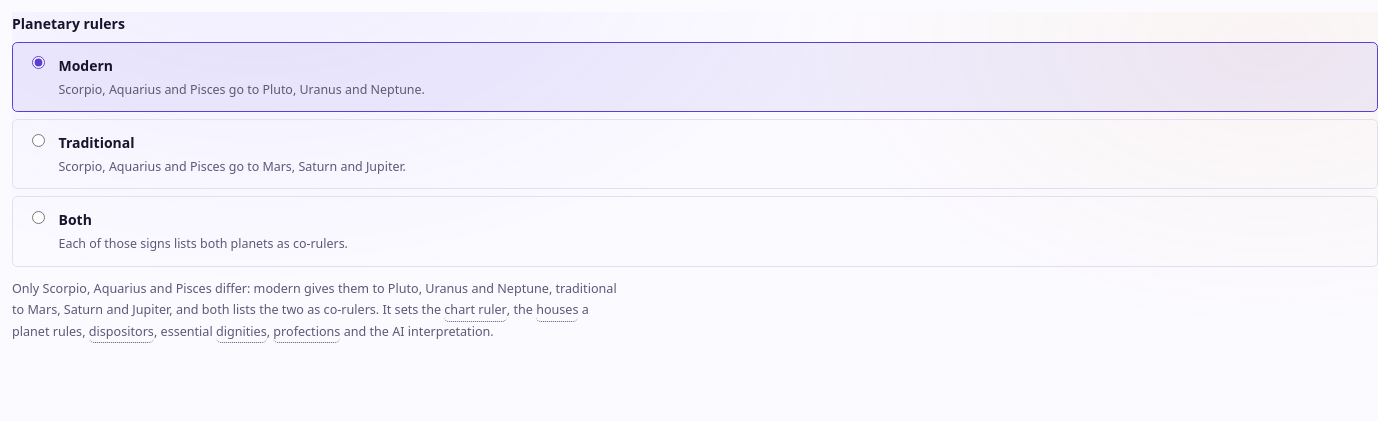
Test case: RulershipSetting (#426, #806) › shows a failed save beside the control instead of swallowing it
Click the 2nd radio button at [38, 140], box [32,134,45,146]
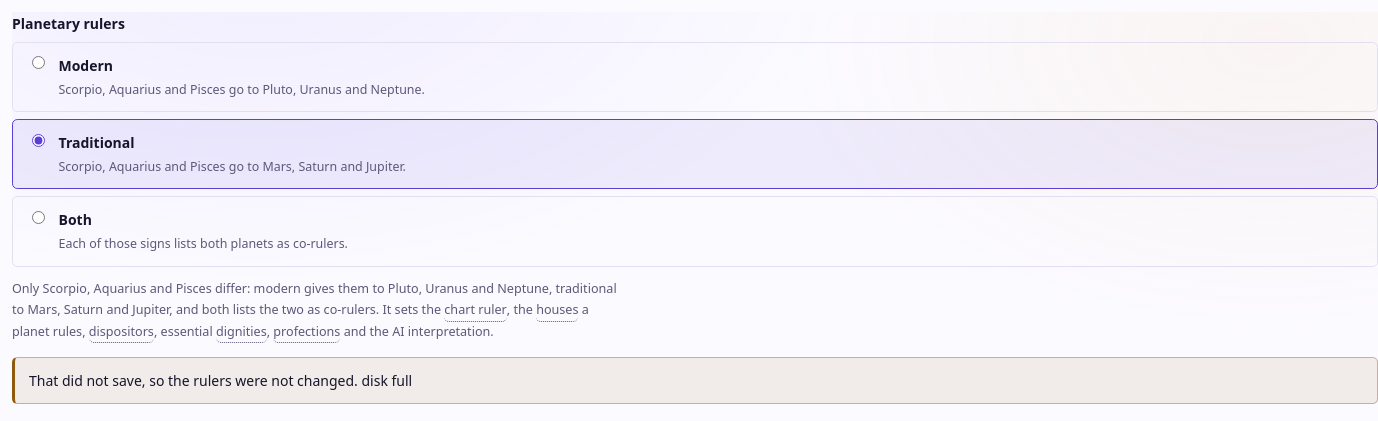
Expected: the text "That did not save, so the rulers were not changed. disk full" is shown, [12,357,1377,404]
